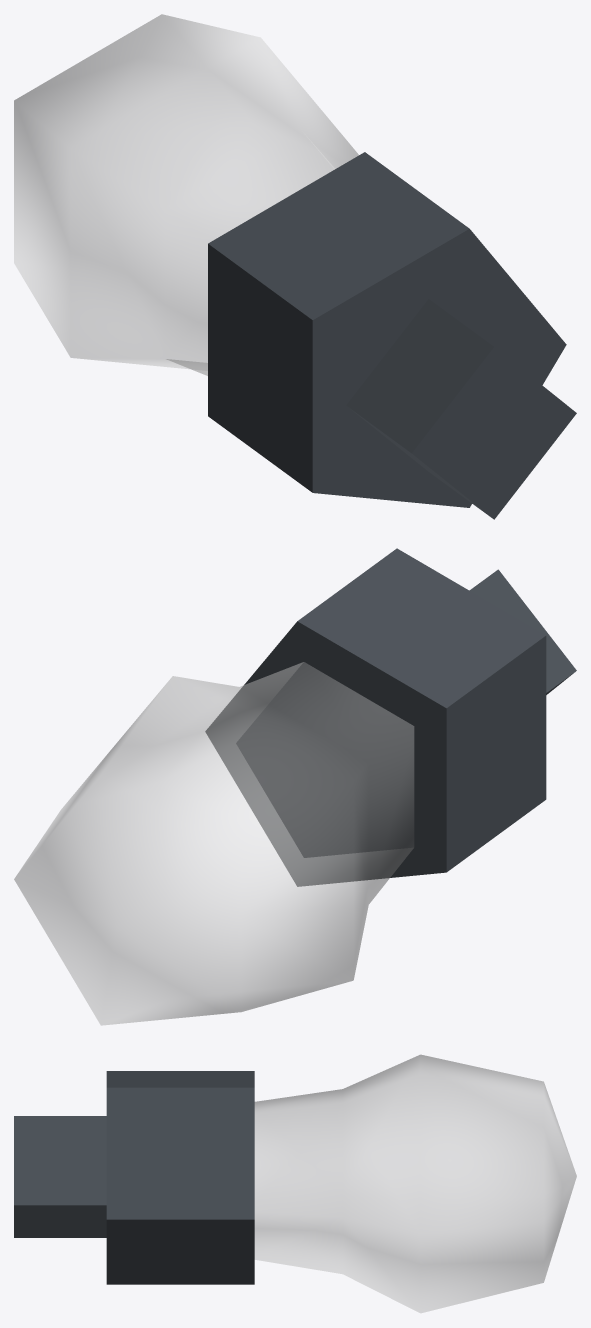
File: bulb_01.fbx
3 views of the same model, one above another, from view 1: azimuth 30°, elevation 25°; view 2: azimuth 150°, elevation 25°; view 3: azimuth 270°, elevation 25° (orthographic). The views are drawn at different scales.
Parts seen in each view (by area): view 1: bulb_01; view 2: bulb_01; view 3: bulb_01.
Part boxes in pixels (left/top/right/bottom): bulb_01: left=14, top=14, right=576, bottom=519; bulb_01: left=14, top=548, right=576, bottom=1025; bulb_01: left=14, top=1054, right=576, bottom=1313.
Bounding box in the file's own units: 0.5718 × 0.6012 × 1.28.
